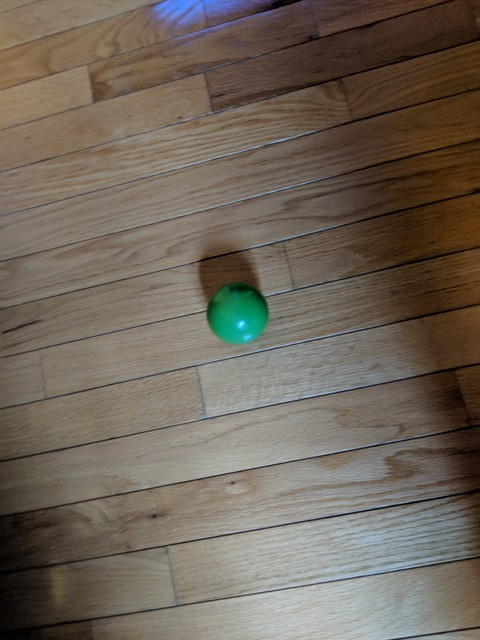ball: (207, 283, 267, 342)
